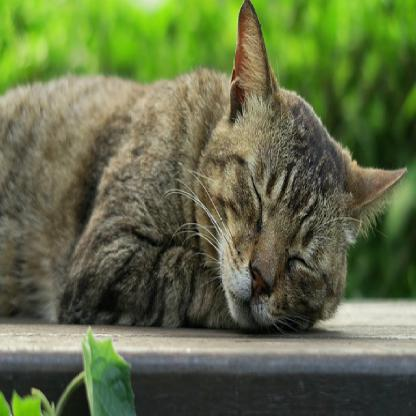cat: (0, 0, 408, 333)
